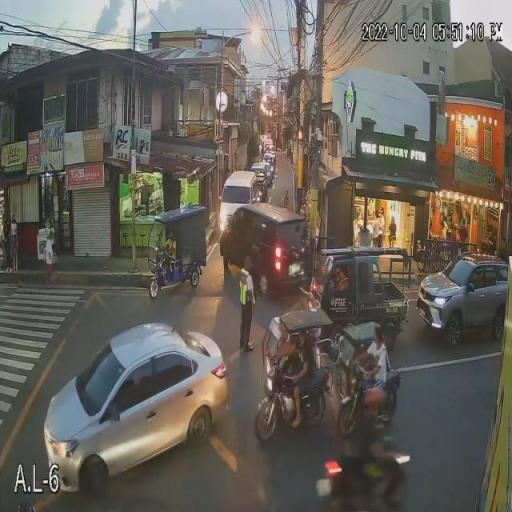helmet: (360, 386, 392, 420)
motorcycle: (316, 455, 412, 512)
rider: (358, 422, 404, 512)
